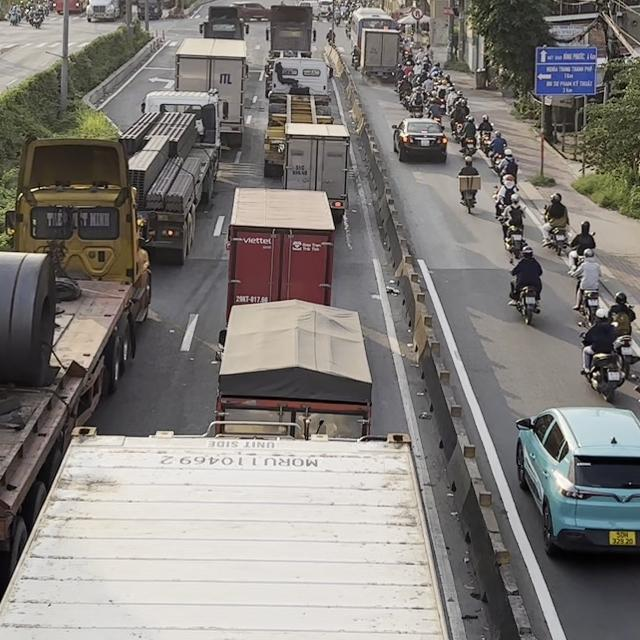car: (514, 405, 639, 556), (392, 117, 447, 163)
motorcycle: (578, 320, 625, 403), (507, 258, 541, 325), (614, 304, 640, 378), (569, 272, 601, 328), (542, 205, 570, 256), (456, 173, 481, 214), (503, 221, 528, 259), (477, 122, 495, 157), (459, 134, 477, 159), (491, 152, 504, 173)
truck: (0, 135, 152, 598), (214, 298, 373, 440), (118, 89, 221, 265), (225, 186, 336, 327), (262, 58, 334, 177), (173, 36, 249, 147), (282, 122, 351, 220), (265, 5, 317, 97), (360, 27, 401, 79), (199, 5, 249, 39)
